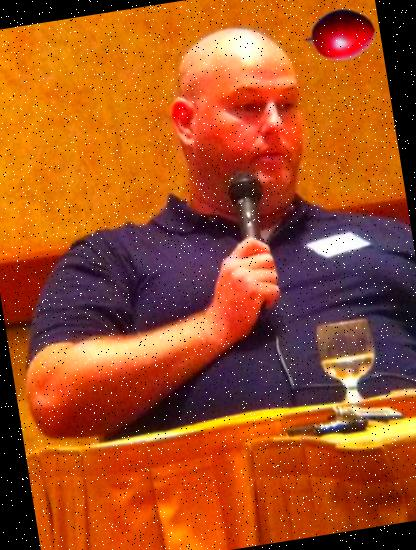Tamarillo: (299, 0, 380, 76)
